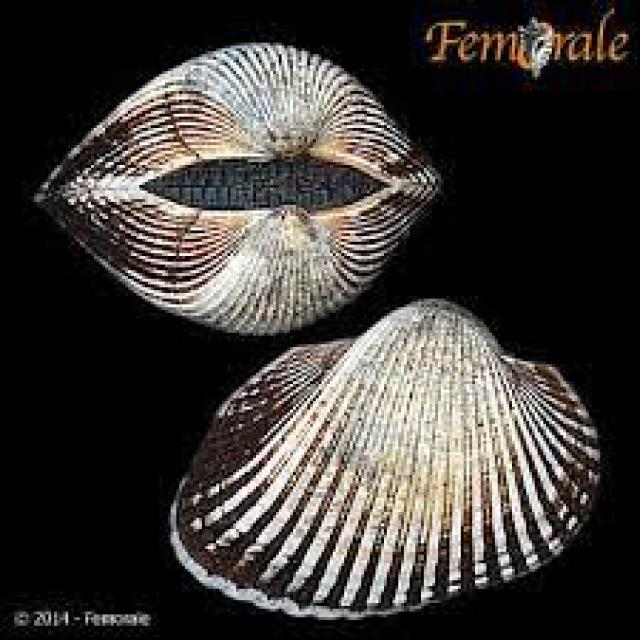Anadara_kagoshimensis: (170, 296, 604, 620), (35, 45, 438, 340)
